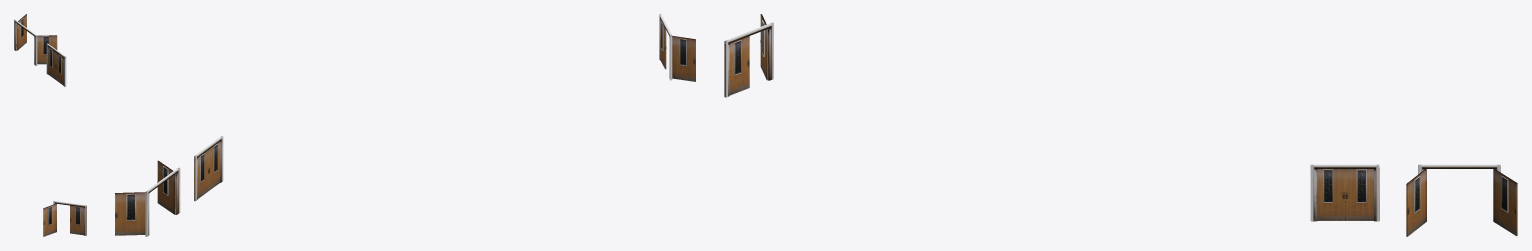
File: Doors_Double01.FBX
3 renders of one model, left to right at view 1: azimuth 30°, elevation 25°; view 2: azimuth 150°, elevation 25°; view 3: azimuth 270°, elevation 25°, orthographic. The views are drawn at different scales.
Parts seen in each view (by area): view 1: Object048, Object020, Object049; view 2: Object020, Object048, Object049; view 3: Object049, Object020, Object048.
Part boxes in pixels (bbox=[...]): Object048: bbox=[43, 201, 86, 236]; Object020: bbox=[14, 14, 57, 65]; Object049: bbox=[46, 43, 66, 87]; Object020: bbox=[115, 160, 180, 236]; Object048: bbox=[659, 14, 695, 81]; Object049: bbox=[194, 136, 223, 201]; Object049: bbox=[1310, 164, 1379, 221]; Object020: bbox=[1406, 164, 1517, 236]; Object048: bbox=[724, 14, 773, 97].
Bounding box in the file's own units: 1580 × 243 × 3113.
